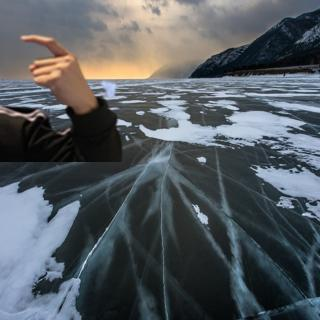WHY: (13, 27, 95, 111)
